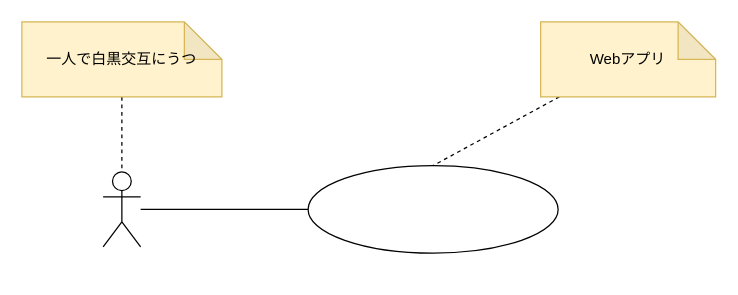
The diagram is 738 pixels wide and 295 high, and some of its shapes have lost their labels. Here are the shapes that lost their labels. From the top down, the box of each, then its label:
(102, 171, 141, 247): プレイヤー
(307, 164, 558, 253): リバーシアプリケーション
